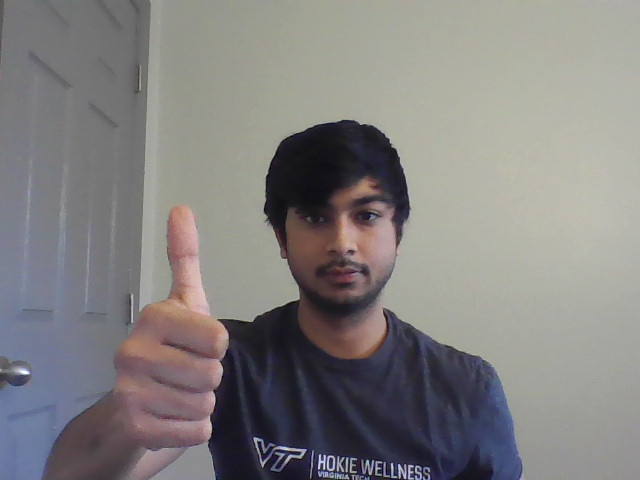confirm: (109, 199, 235, 452)
